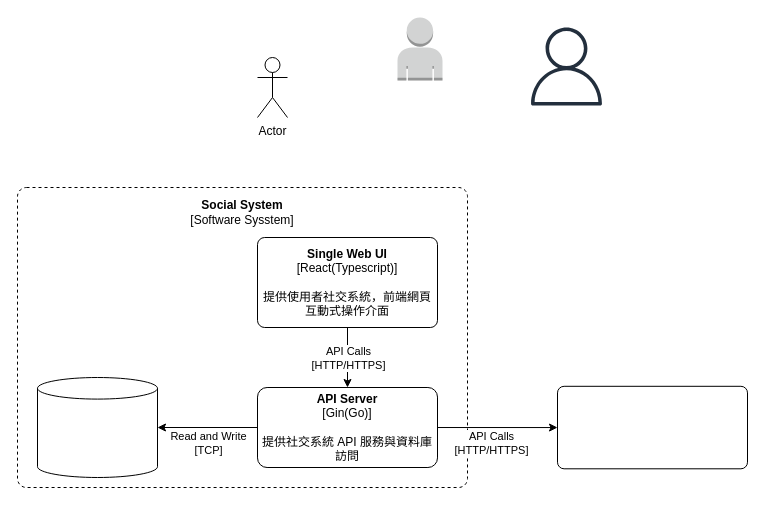
The diagram is 765 pixels wide and 505 high, and some of its shapes have lost their labels. The shapes that lost their labels are listed below. From the top down, each one's box as (x1, y1, x2, y2) in pixels, then its label:
(36, 376, 158, 478): Related DB [PostgreSQL] 持久化存儲系統服務數據
(556, 385, 748, 469): LLM API System [Software System] 提供語言生成與文本轉向量服務
